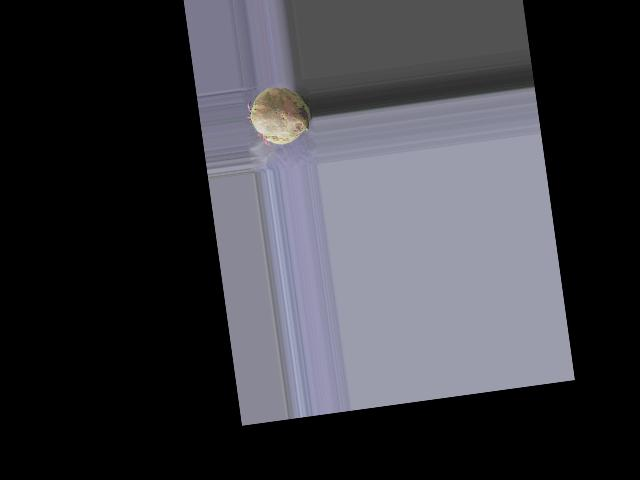beet: (244, 83, 313, 148)
